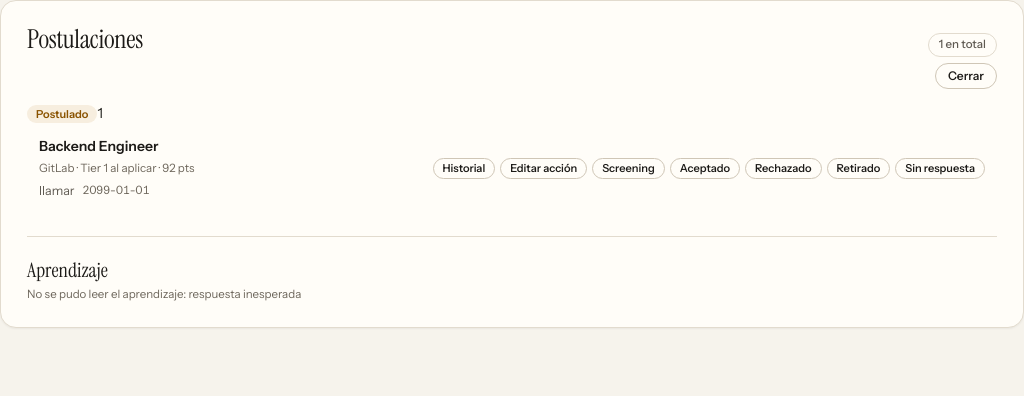
Test case: Pipeline — próxima acción (Fase 9) › vaciar los campos manda null para que el backend los borre
The width and height of the screenshot is (1024, 396).
Later steps or results of the test are not shown.
Step 1. Click the button "Editar acción" → (544, 168), box [500, 158, 587, 179]
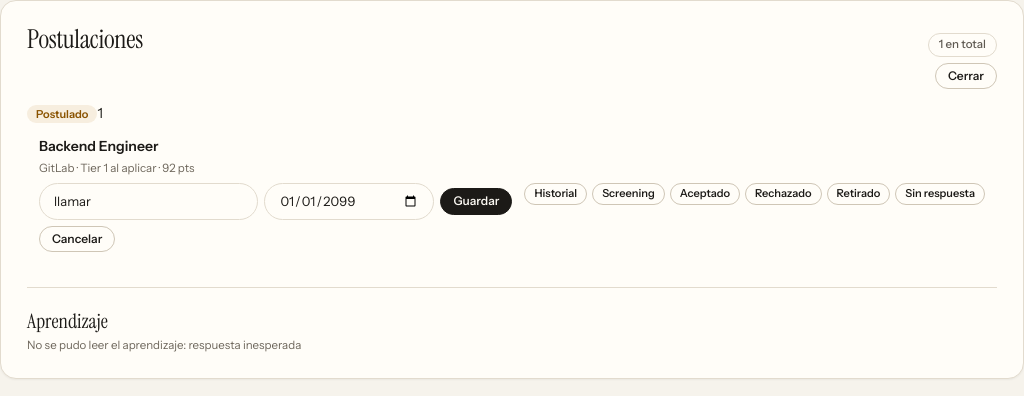
Expected: the field named "Próxima acción" holds "llamar", [39, 183, 258, 220]
Expected: the date field named "Fecha de la próxima acción" holds "2099-01-01", [264, 183, 434, 220]
